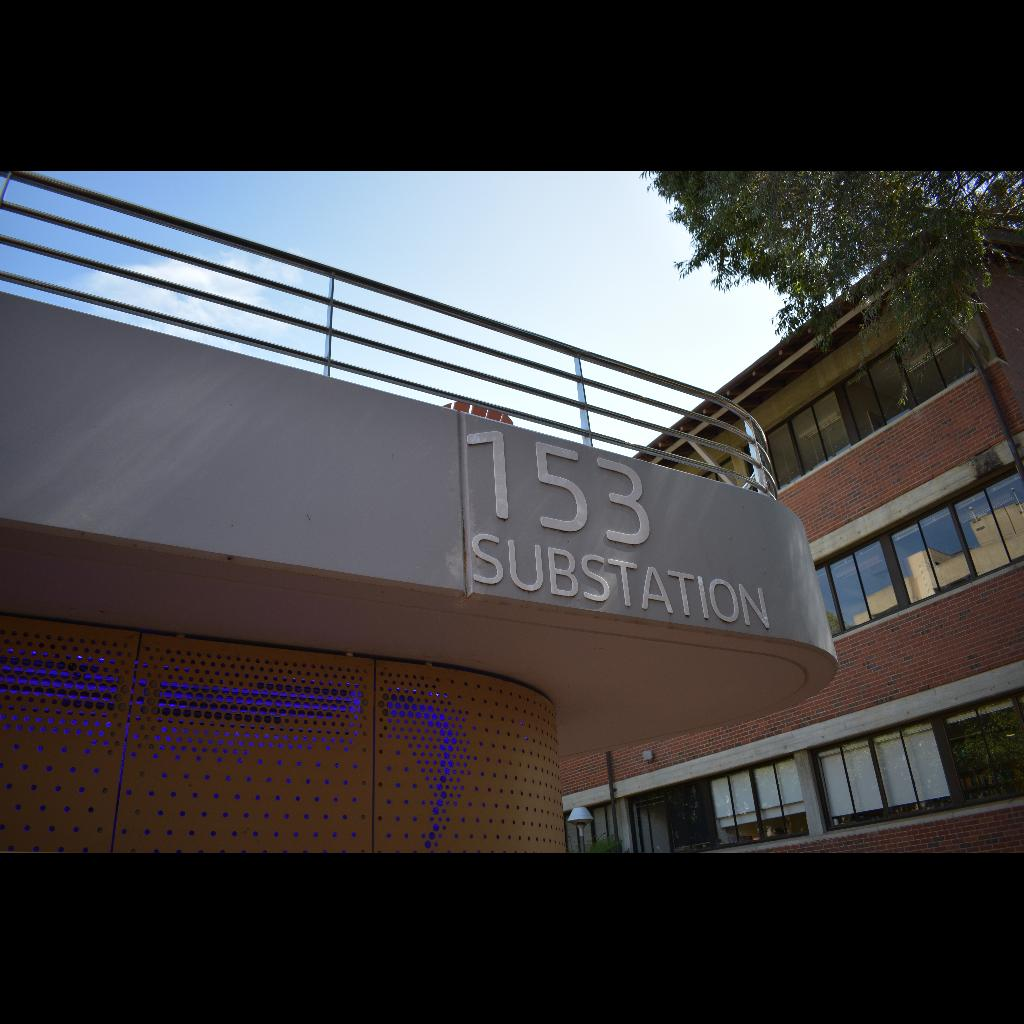BuildingCodes: (461, 428, 655, 548)
